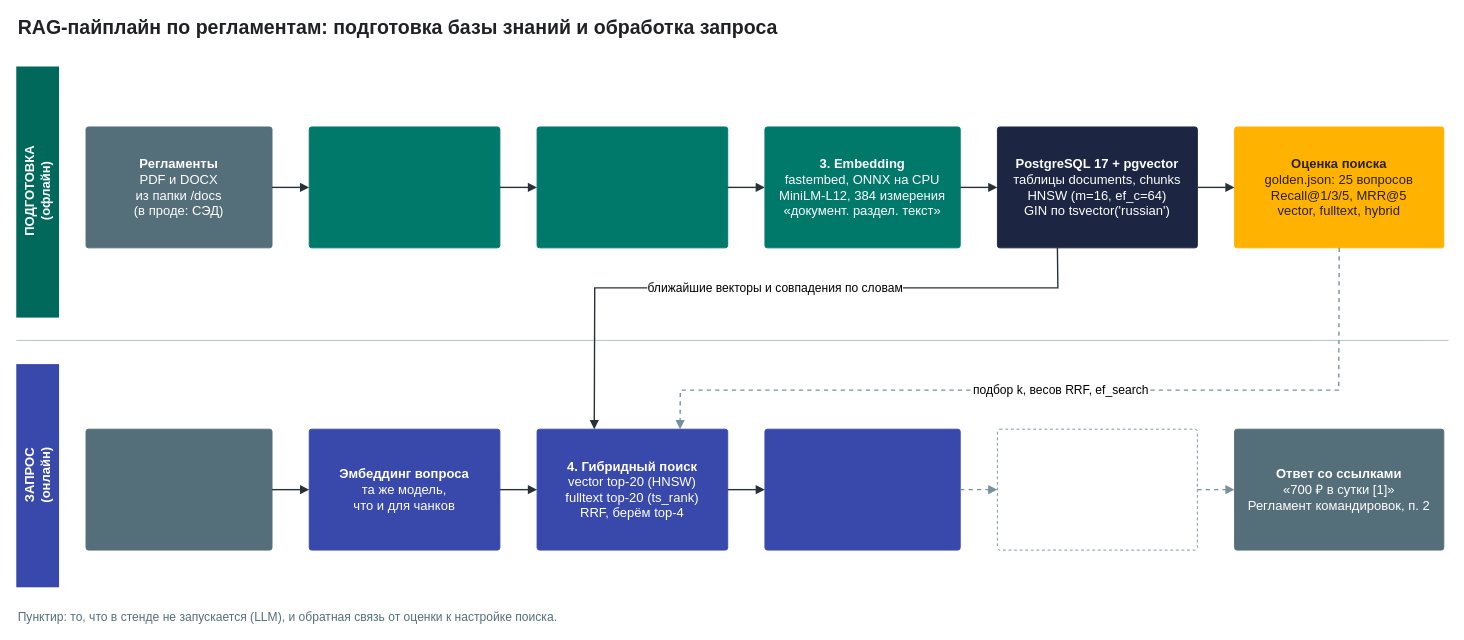
The diagram is 1464 pixels wide and 640 high, and some of its shapes have lost their labels. Each missing label, with the centre of its shape:
1. Ingestion pypdf, python-docx очистка колонтитулов sha256: только изменённые: the point at 404,187
2. Chunking по разделам «N. Заголовок» до 400 символов, перекрытие 1 предложение: the point at 632,187
5. Сборка промпта инструкция и источники [N] с документом и пунктом, сам вопрос: the point at 862,489
LLM в стенде не запускается, зона ML-команды: the point at 1096,489
Сотрудник «сколько суточных в командировке?»: the point at 178,489
